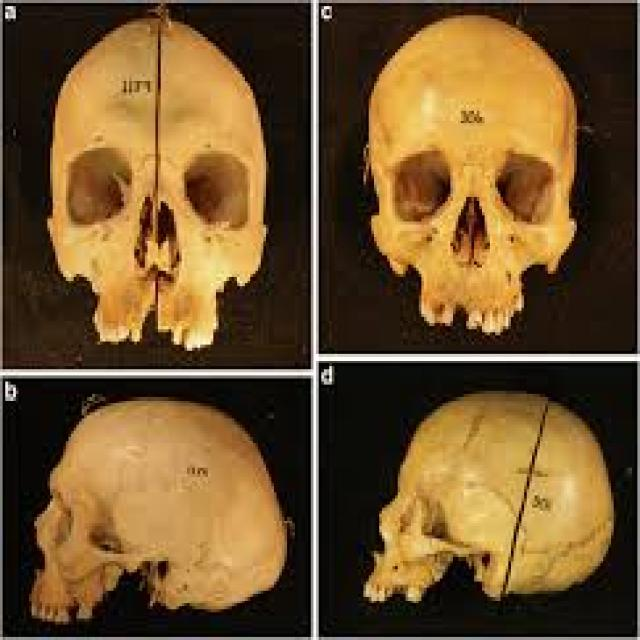skull: (352, 372, 605, 638)
